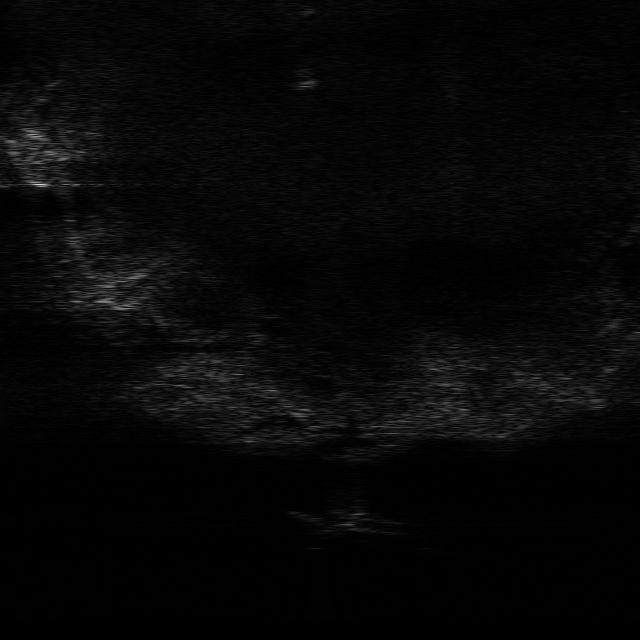plane: (284, 508, 402, 536)
